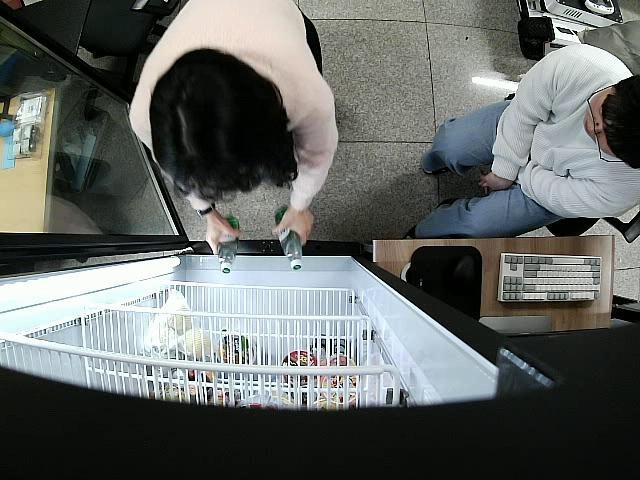18_trevi: (272, 202, 304, 272), (216, 218, 239, 273)
